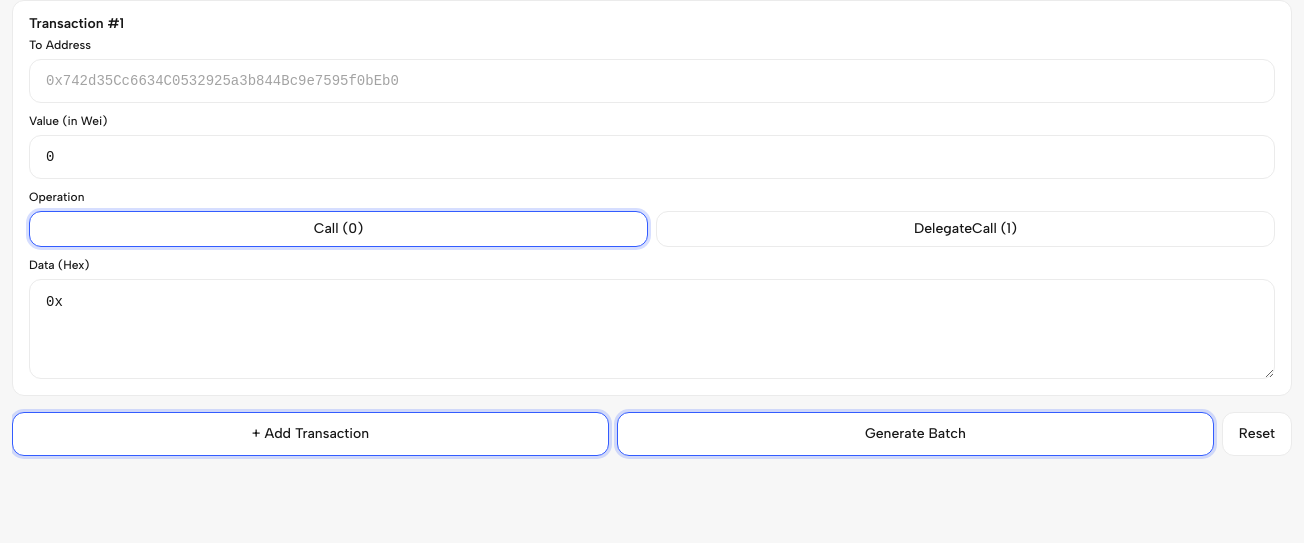
Test case: SafeBatchBuilderTool › shows error for invalid address
The image size is (1304, 543).
In the field with placeholder "0x742d35Cc6634C0532925a3b844Bc9e7595f0bEb0": (652, 81) [29, 59, 1275, 103], type "invalid-address"
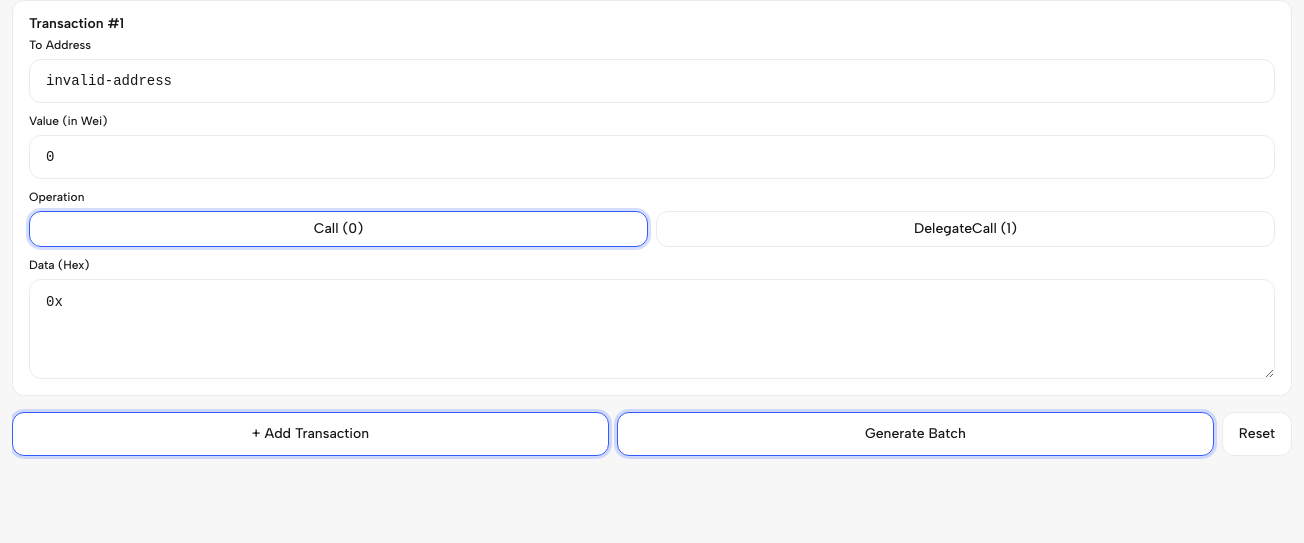
Click the button "Generate Batch": (915, 434) [617, 412, 1214, 456]
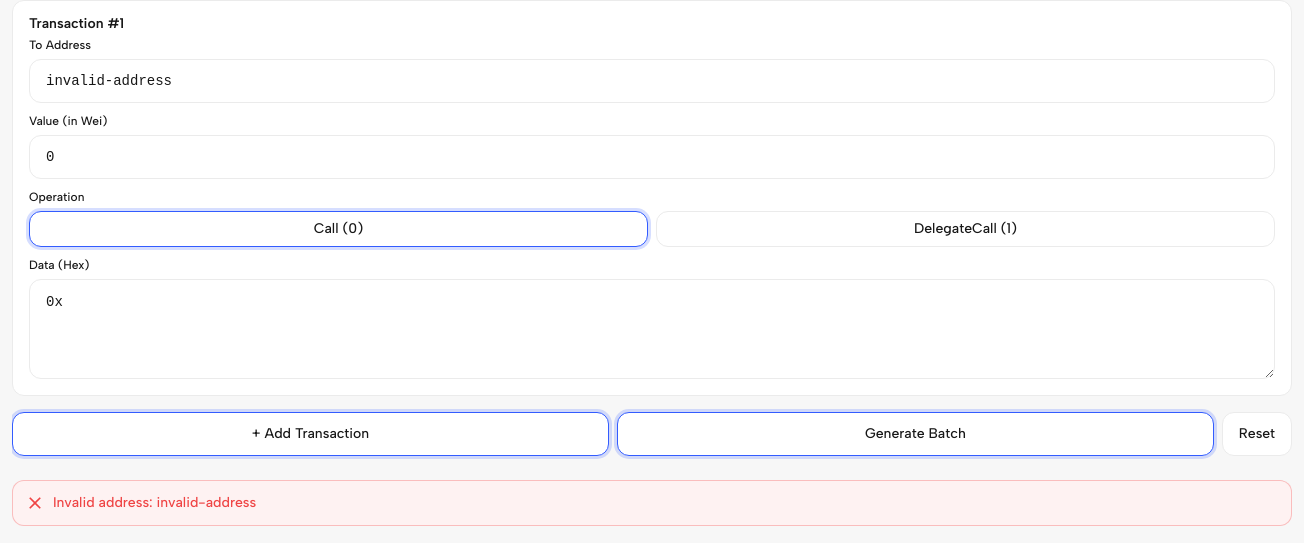
Now the text "Invalid address: invalid-address" is shown, box [25, 493, 256, 513]
